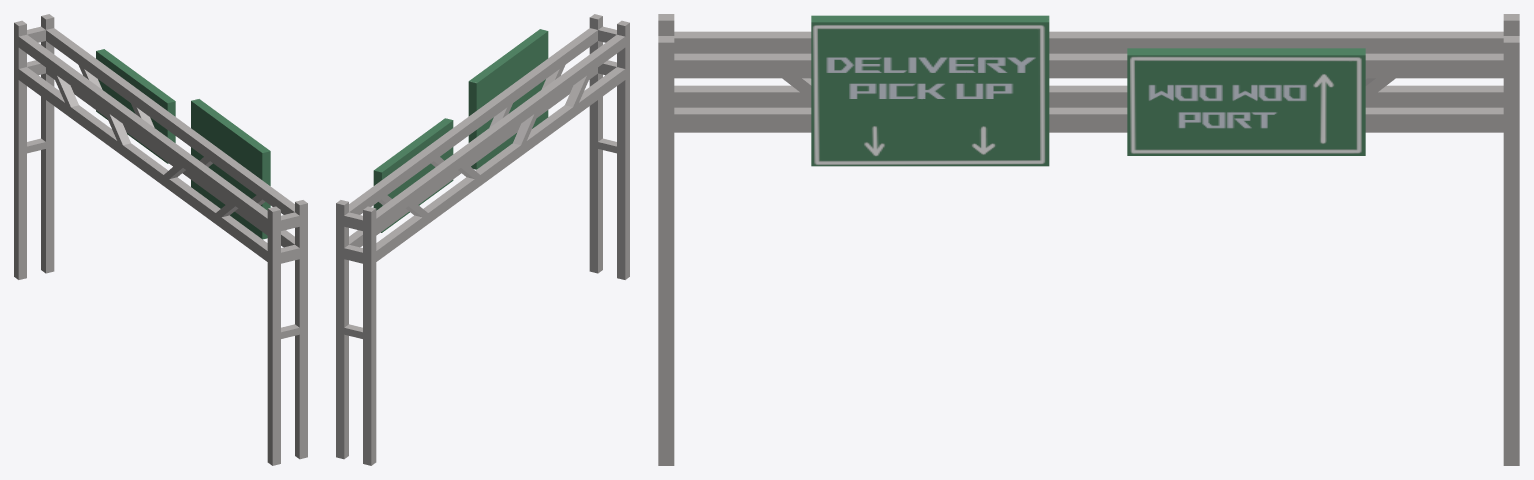
File: CheckPointSign.fbx
3 views of the same model, side by side, from view 1: azimuth 30°, elevation 25°; view 2: azimuth 150°, elevation 25°; view 3: azimuth 270°, elevation 25° (orthographic). The views are drawn at different scales.
Visible parts, largest first — view 1: Box013; view 2: Box013; view 3: Box013.
Boxes of the visible parts, <box> form: Box013: <box>14,14,307,465</box>; Box013: <box>336,14,629,465</box>; Box013: <box>658,14,1519,465</box>.
Bounding box in the file's own units: 5.33 × 31.3 × 54.23.
